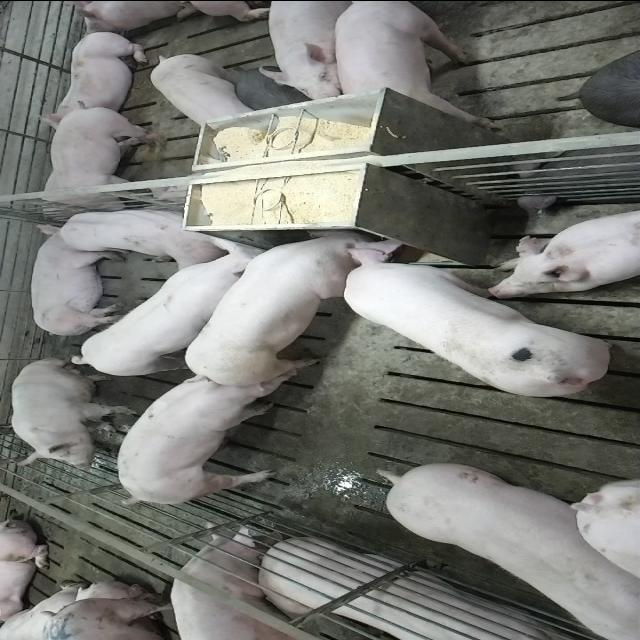Feeding: (338, 240, 616, 398), (176, 228, 382, 390)
Lateral_lying: (255, 539, 603, 640), (25, 222, 127, 338)
Sitting: (8, 356, 134, 470)
Standing: (373, 458, 635, 636), (69, 241, 285, 379), (111, 378, 302, 510), (336, 2, 506, 133), (30, 100, 172, 218), (168, 522, 302, 640), (258, 0, 372, 102), (151, 52, 257, 126)
Sternal_lying: (488, 207, 640, 295), (35, 28, 154, 124), (56, 203, 228, 265)
